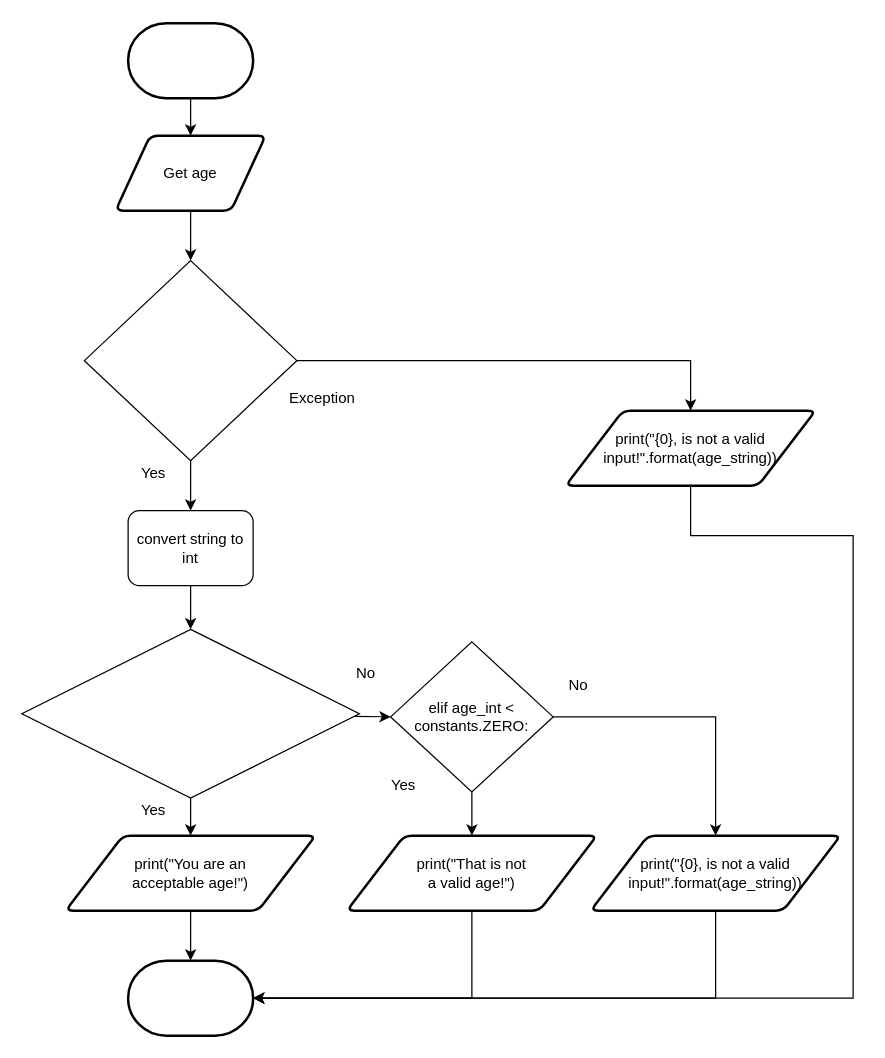
Image size: 885x1058. Some labels were removed from this diagram. Each missing label, with the centre of its shape:
if age_int > constants.MINIMUM_AGE and age_int < constants.MAXIMUM_AGE:: point (190, 713)
Start: point (190, 60)
Stop: point (190, 997)
try: point (190, 360)
